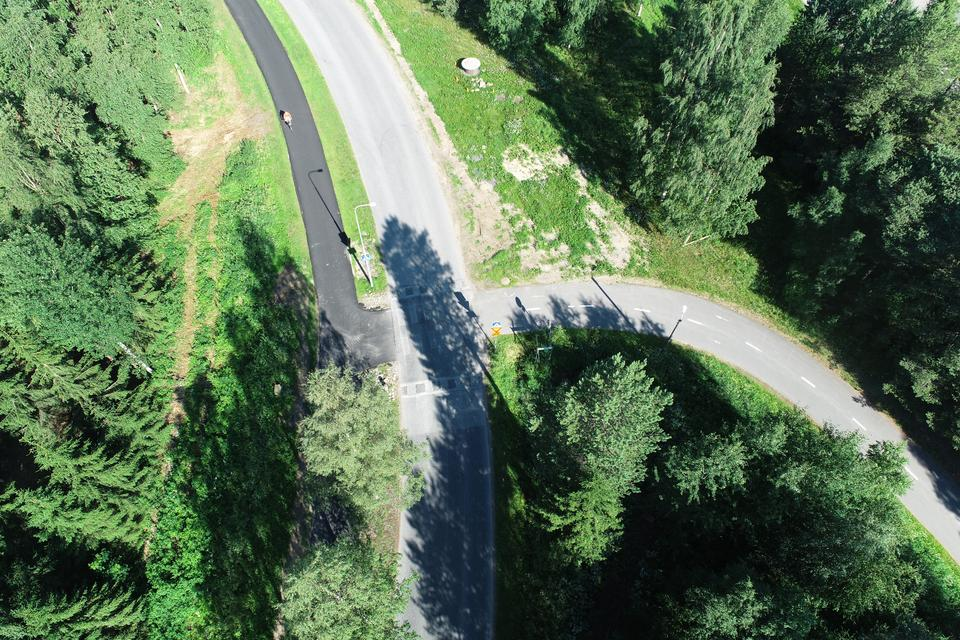intersection: (277, 237, 548, 406)
